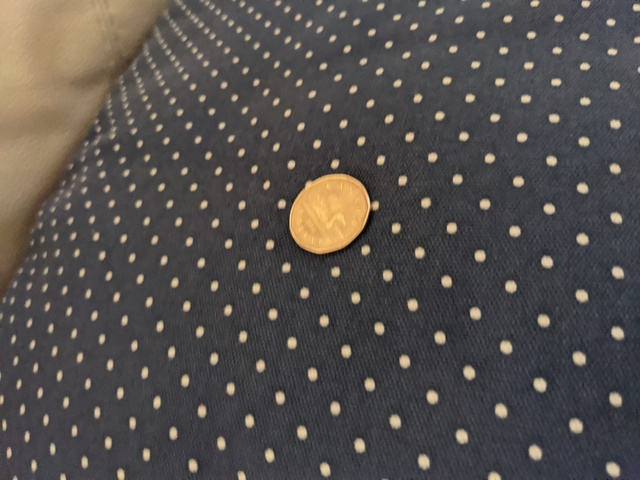loonie: (286, 171, 389, 260)
